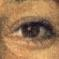eye: (22, 25, 39, 37)
